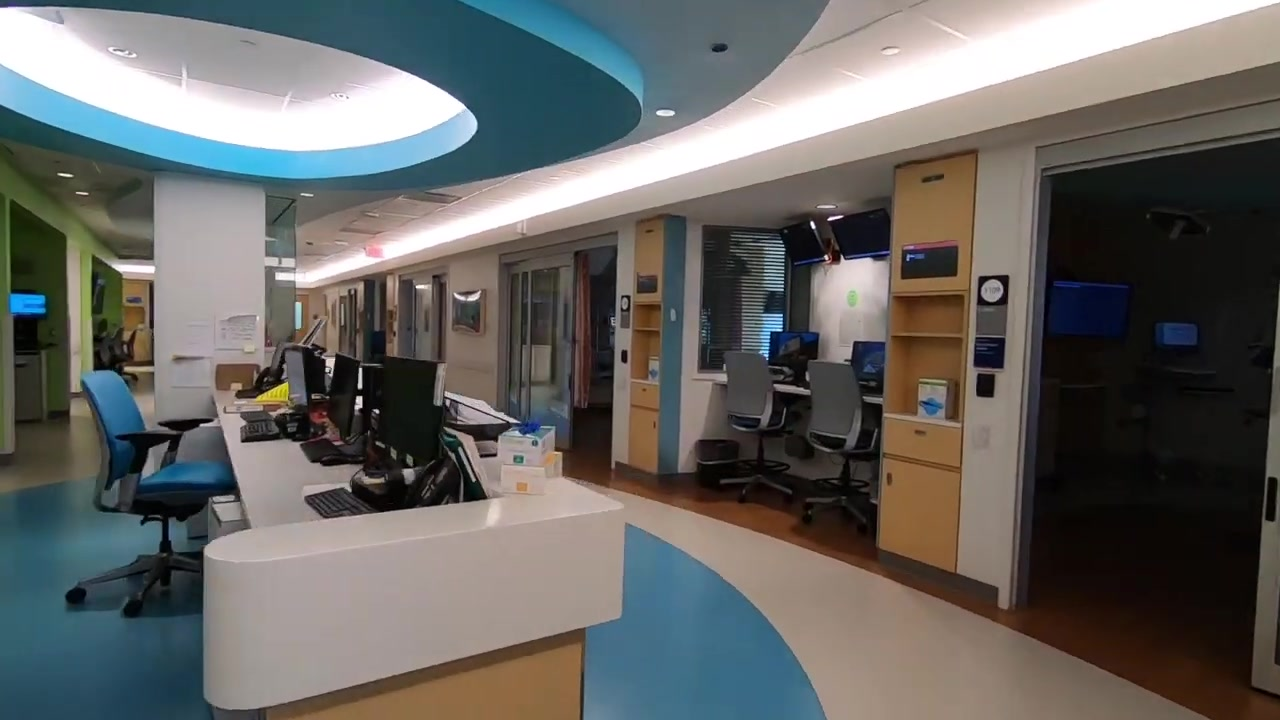TV: (828, 207, 892, 261), (778, 219, 831, 267)
bedside_monitor: (1150, 316, 1205, 352)
cabinet: (890, 148, 975, 293), (634, 221, 669, 308)
chair: (64, 371, 240, 617), (802, 360, 883, 534), (715, 351, 801, 503), (109, 328, 128, 384), (119, 328, 139, 381), (93, 331, 114, 371)
computer: (362, 355, 449, 474), (1046, 280, 1133, 341), (325, 352, 361, 435), (284, 351, 324, 408), (768, 330, 820, 366), (849, 340, 886, 381), (9, 291, 48, 318)
counter: (202, 339, 583, 717)
countertop: (212, 385, 624, 562)
curtain: (572, 252, 593, 408)
dispenser: (500, 424, 555, 461), (915, 385, 945, 414)
drawer: (869, 415, 959, 575), (628, 380, 659, 473)
handle: (913, 427, 927, 436), (886, 472, 893, 486), (637, 386, 650, 393), (652, 419, 656, 430)
keyboard: (303, 486, 382, 519), (299, 438, 348, 463), (240, 423, 281, 443), (241, 410, 274, 424)
mouse: (319, 453, 346, 466)
press_to_open: (620, 348, 629, 364)
surgical_light: (1143, 205, 1211, 241)
waste_bin: (695, 438, 740, 487)
